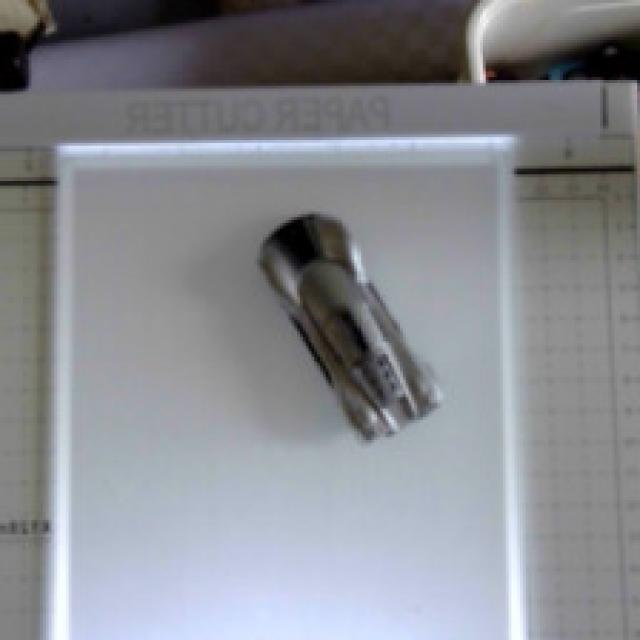Grey Car: (211, 204, 475, 464)
